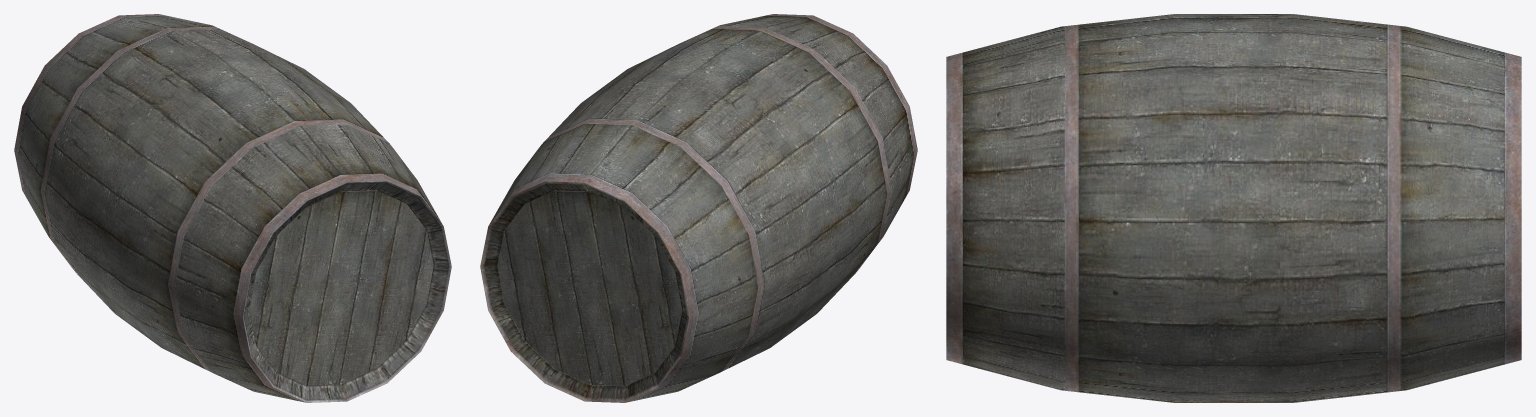
Rendered from prop_wooden_barrel1.glb.
3 renders of one model, left to right at view 1: azimuth 30°, elevation 25°; view 2: azimuth 150°, elevation 25°; view 3: azimuth 270°, elevation 25°, orthographic. The views are drawn at different scales.
Bounding box in the file's own units: 32.49 × 32.49 × 47.99.
Materials: 1 (1 with a texture image).
